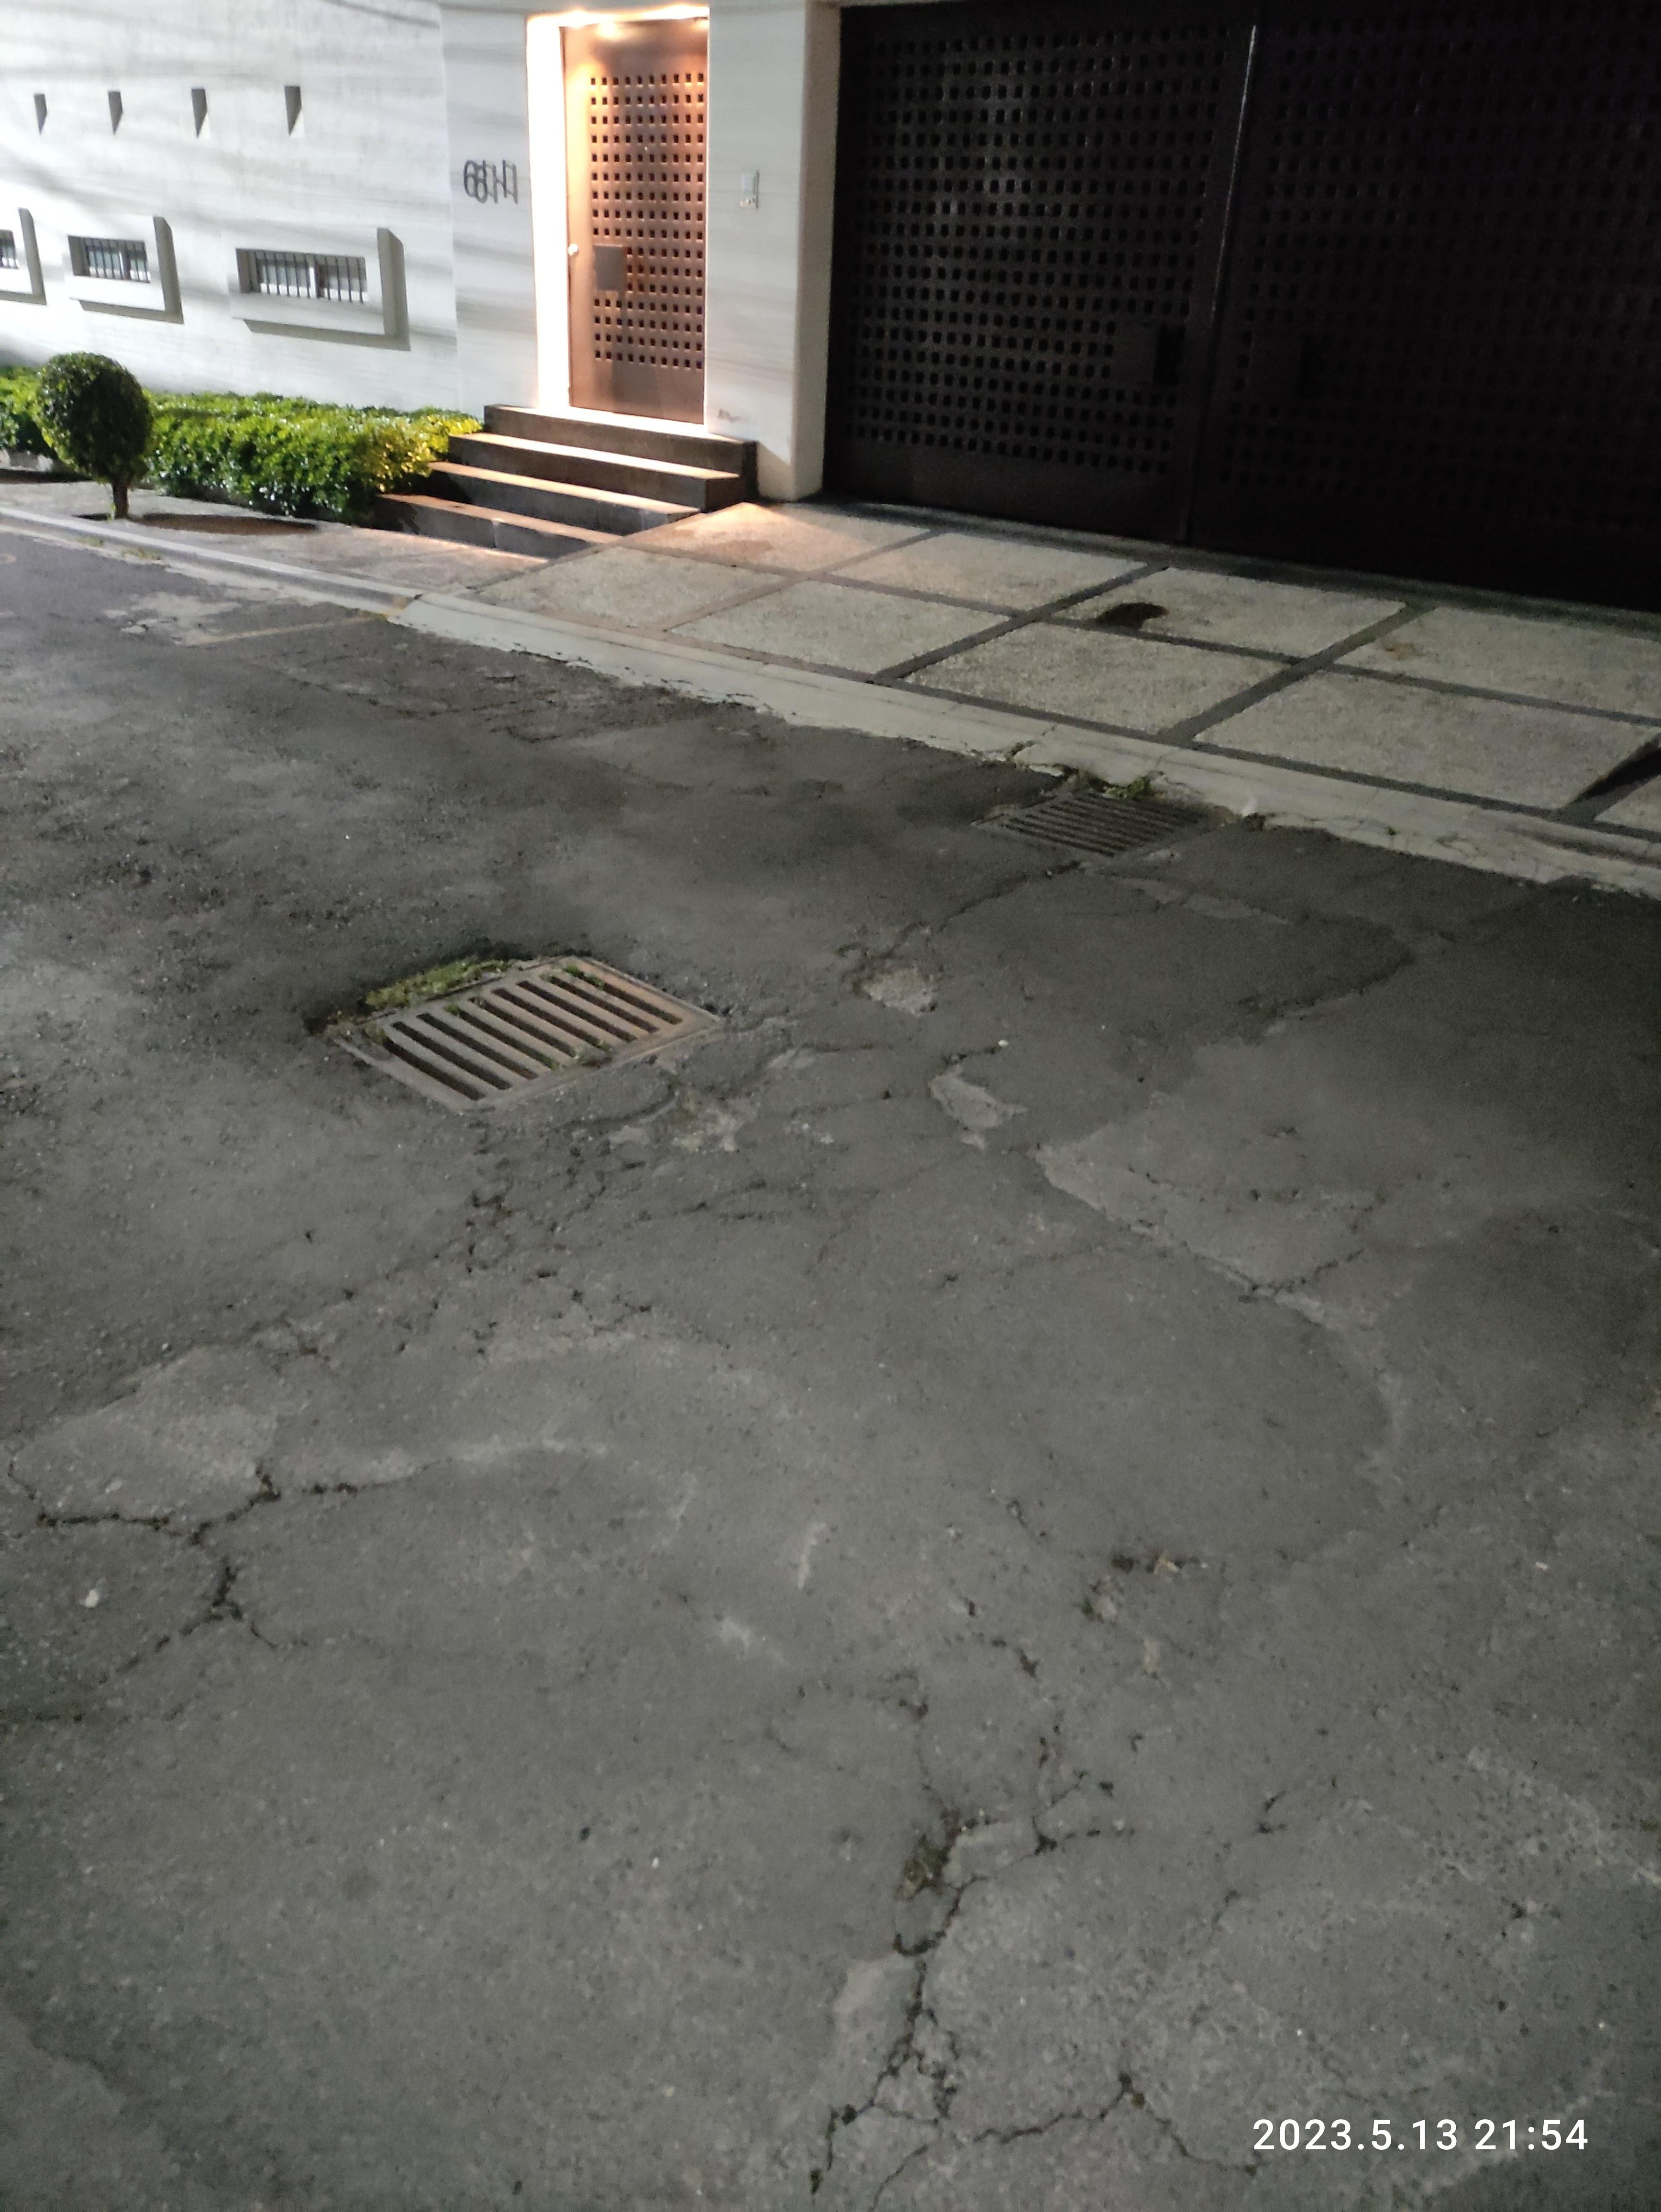crack: (757, 1774, 1214, 2212), (21, 1403, 384, 1694), (410, 1108, 792, 1343), (1096, 1905, 1111, 1905)
